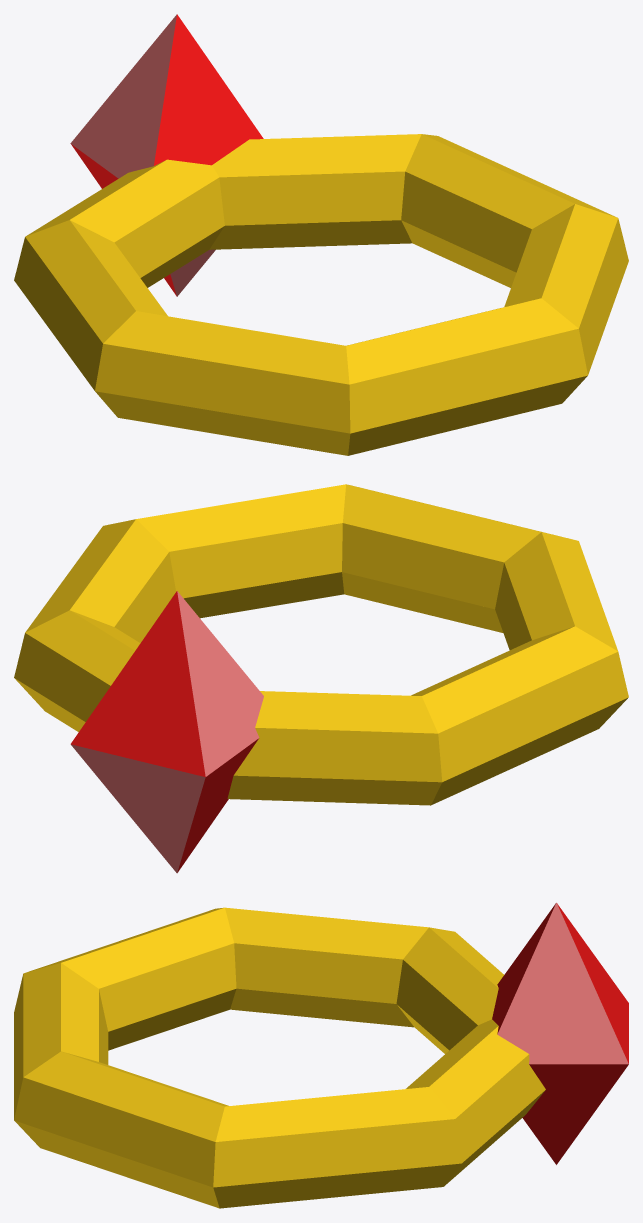
The model's file is ring.fbx.
3 views of the same model, one above another, from view 1: azimuth 30°, elevation 25°; view 2: azimuth 150°, elevation 25°; view 3: azimuth 270°, elevation 25° (orthographic). The views are drawn at different scales.
Parts seen in each view (by area): view 1: torus, pyramid, pyramid_1; view 2: torus, pyramid, pyramid_1; view 3: torus, pyramid, pyramid_1.
Part boxes in pixels (left/top/right/bottom): torus: left=14, top=134, right=628, bottom=455; pyramid: left=70, top=14, right=263, bottom=178; pyramid_1: left=70, top=143, right=215, bottom=296; torus: left=14, top=484, right=628, bottom=805; pyramid: left=71, top=591, right=263, bottom=776; pyramid_1: left=71, top=738, right=258, bottom=873; torus: left=14, top=907, right=545, bottom=1208; pyramid: left=492, top=902, right=628, bottom=1064; pyramid_1: left=522, top=1064, right=628, bottom=1164.
Size of the model in its own units: 74.05 by 37.5 by 79.53.
Materials: 1 (1 with a texture image).
